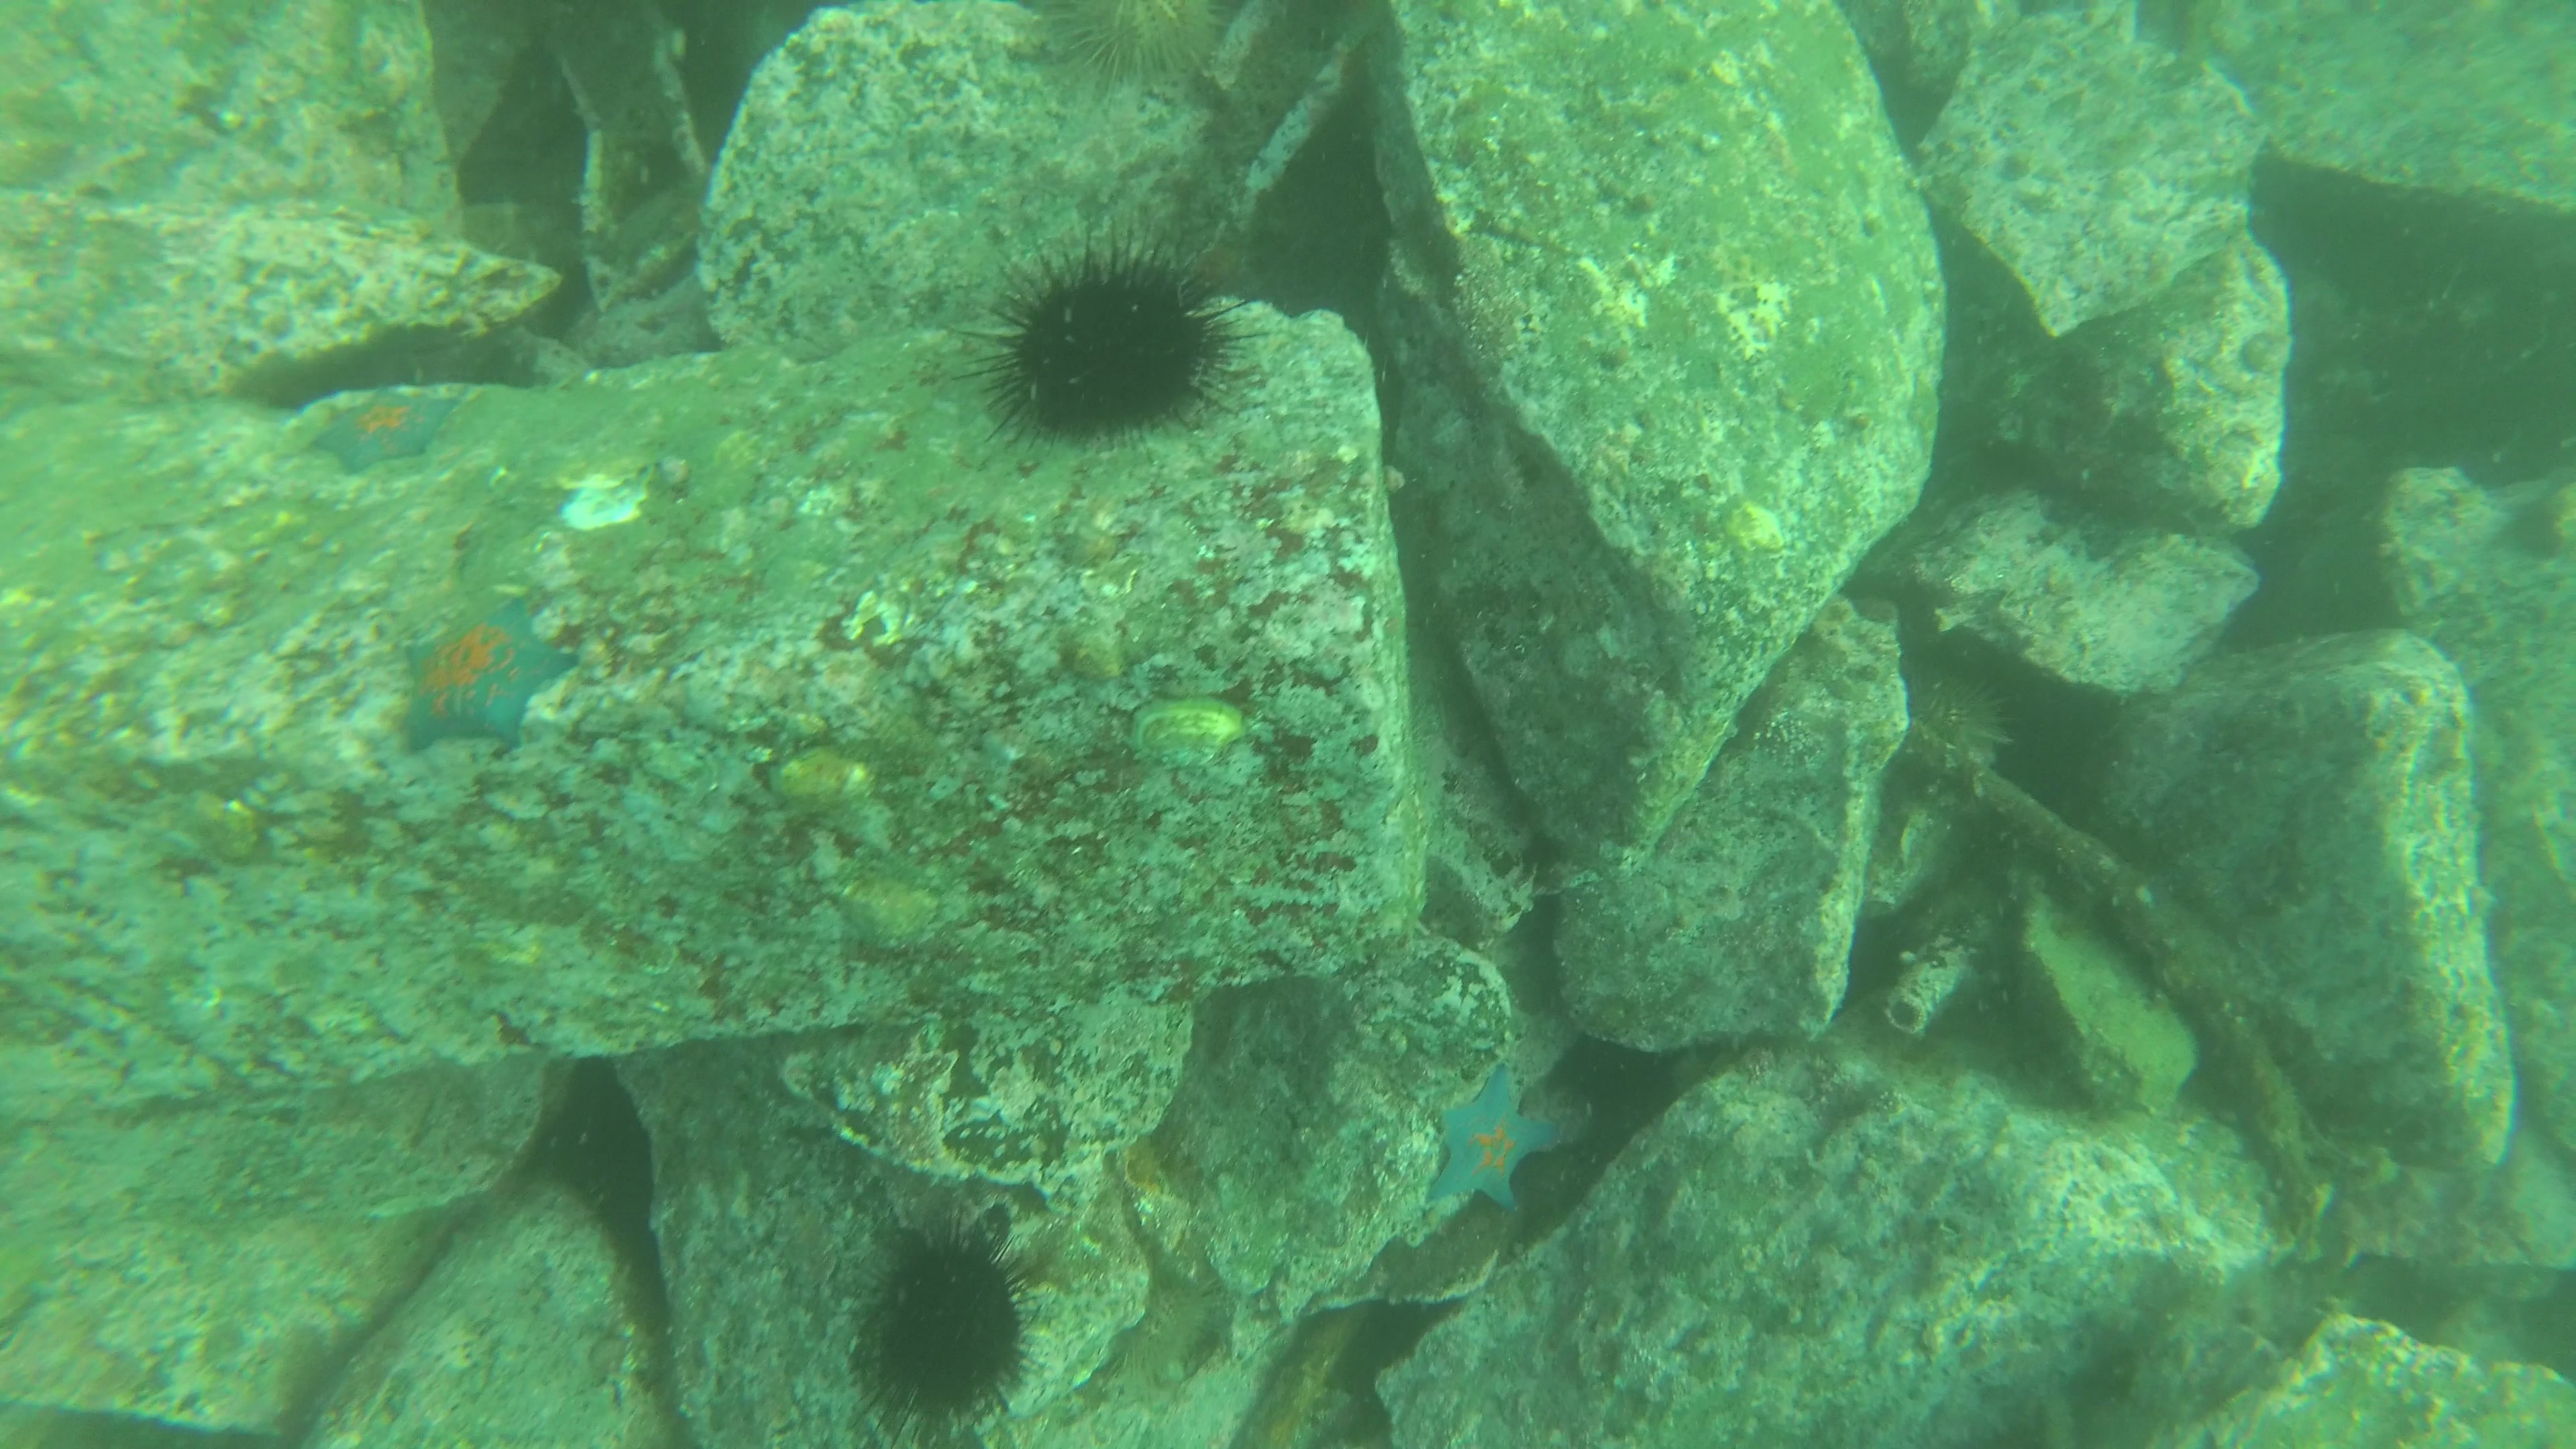echinus: (978, 253, 1224, 444), (863, 1233, 1024, 1417), (1028, 0, 1235, 92), (1891, 658, 2022, 754)
starfish: (387, 605, 571, 757), (1422, 1067, 1571, 1224), (311, 387, 442, 481)
